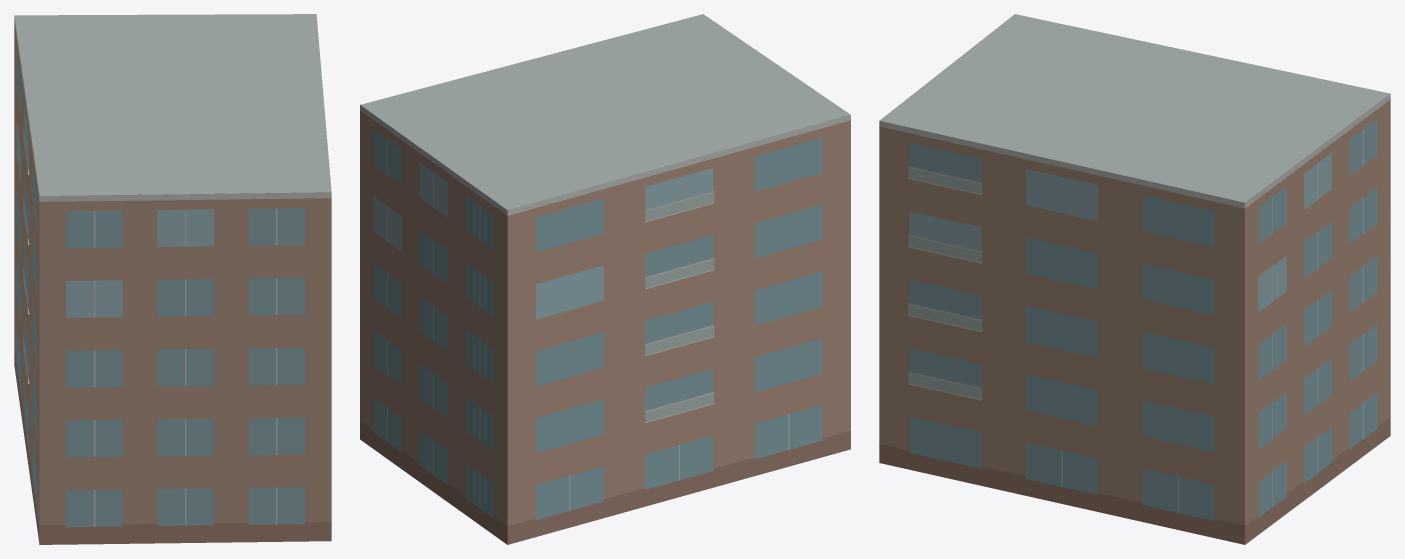
The model's file is survey-upis-32892560.glb.
3 views of the same model, side by side, from view 1: azimuth 30°, elevation 25°; view 2: azimuth 150°, elevation 25°; view 3: azimuth 270°, elevation 25° (orthographic). The views are drawn at different scales.
Visible parts, largest first — view 1: survey-upis-32892560.tmp; view 2: survey-upis-32892560.tmp; view 3: survey-upis-32892560.tmp.
Part boxes in pixels (x1,y1,x2,y2): survey-upis-32892560.tmp: [14, 14, 331, 544]; survey-upis-32892560.tmp: [360, 14, 850, 544]; survey-upis-32892560.tmp: [879, 14, 1390, 544].
Size of the model in its own units: 17.16 by 14.5 by 19.65.
